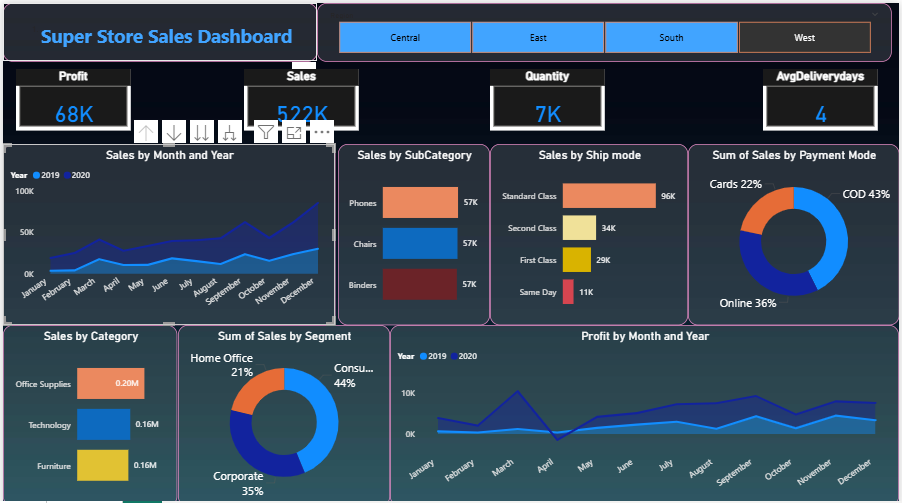

The page's visual inventory and layout, read from the dashboard file:
{"tool":"powerbi","page":{"name":"Page 1","canvas":[1280,720],"ordinal":0},"visuals":[{"type":"clusteredBarChart","title":"Sales by Category","fields":{"Category":["SuperStore_Sales_Dataset.Category"],"Y":["Sum(SuperStore_Sales_Dataset.Sales)"]},"box":[0,460.6,249.4,259.4],"z":0},{"type":"clusteredBarChart","title":"Sales by Ship mode","fields":{"Category":["SuperStore_Sales_Dataset.Ship Mode"],"Y":["Sum(SuperStore_Sales_Dataset.Sales)"]},"box":[695.9,201.3,283.5,259.4],"z":1000},{"type":"clusteredBarChart","title":"Sales by SubCategory","fields":{"Category":["SuperStore_Sales_Dataset.Sub-Category"],"Y":["Sum(SuperStore_Sales_Dataset.Sales)"]},"box":[479.1,201.3,216.9,259.4],"z":2000},{"type":"stackedAreaChart","title":"Sales by Month and Year","fields":{"Category":["SuperStore_Sales_Dataset.Order Date.Variation.Date Hierarchy.Month","SuperStore_Sales_Dataset.Order Date.Variation.Date Hierarchy.Day"],"Y":["Sum(SuperStore_Sales_Dataset.Sales)"],"Series":["SuperStore_Sales_Dataset.Order Date.Variation.Date Hierarchy.Year"]},"box":[0,201.3,474.8,259.4],"z":3000},{"type":"stackedAreaChart","title":"Profit by Month and Year","fields":{"Category":["SuperStore_Sales_Dataset.Order Date.Variation.Date Hierarchy.Month","SuperStore_Sales_Dataset.Order Date.Variation.Date Hierarchy.Day"],"Series":["SuperStore_Sales_Dataset.Order Date.Variation.Date Hierarchy.Year"],"Y":["Sum(SuperStore_Sales_Dataset.Profit)"]},"box":[552.8,460.6,727.1,259.4],"z":4000},{"type":"donutChart","fields":{"Category":["SuperStore_Sales_Dataset.Segment"],"Y":["Sum(SuperStore_Sales_Dataset.Sales)"]},"box":[249.4,460.6,303.3,259.4],"z":5000},{"type":"donutChart","fields":{"Category":["SuperStore_Sales_Dataset.Payment Mode"],"Y":["Sum(SuperStore_Sales_Dataset.Sales)"]},"box":[978,201.3,301.9,259.4],"z":6000},{"type":"slicer","fields":{"Values":["SuperStore_Sales_Dataset.Region"]},"box":[449.2,0,820.7,83.5],"z":7000},{"type":"textbox","box":[0,0,449.2,83.5],"z":8000},{"type":"cardVisual","title":"Sales","fields":{"Data":["Sum(SuperStore_Sales_Dataset.Sales)"]},"box":[344.1,93.6,164.1,87.8],"z":9000},{"type":"cardVisual","title":"Quantity","fields":{"Data":["Sum(SuperStore_Sales_Dataset.Quantity)"]},"box":[695.4,93.6,164.1,87.8],"z":10000},{"type":"cardVisual","title":"AvgDeliverydays","fields":{"Data":["Avg(SuperStore_Sales_Dataset.AvgDelivery)"]},"box":[1085.6,93.6,164.1,87.8],"z":11000},{"type":"cardVisual","title":"Profit","fields":{"Data":["Sum(SuperStore_Sales_Dataset.Profit)"]},"box":[18.7,93.6,164.1,87.8],"z":12000}]}

Visuals, with their boxes in screenshot pixels (x1, y1, x2, y2), scaled from the page's 1280x720 canvas onto the 902x503 screenshot:
"Sales by Category" clusteredBarChart: (0, 322, 176, 502)
"Sales by Ship mode" clusteredBarChart: (490, 141, 690, 322)
"Sales by SubCategory" clusteredBarChart: (338, 141, 490, 322)
"Sales by Month and Year" stackedAreaChart: (0, 141, 335, 322)
"Profit by Month and Year" stackedAreaChart: (390, 322, 901, 502)
donutChart - SuperStore_Sales_Dataset.Segment x Sum(SuperStore_Sales_Dataset.Sales): (176, 322, 389, 502)
donutChart - SuperStore_Sales_Dataset.Payment Mode x Sum(SuperStore_Sales_Dataset.Sales): (689, 141, 901, 322)
slicer - SuperStore_Sales_Dataset.Region: (317, 0, 895, 58)
textbox: (0, 0, 317, 58)
"Sales" cardVisual: (242, 65, 358, 127)
"Quantity" cardVisual: (490, 65, 606, 127)
"AvgDeliverydays" cardVisual: (765, 65, 881, 127)
"Profit" cardVisual: (13, 65, 129, 127)
